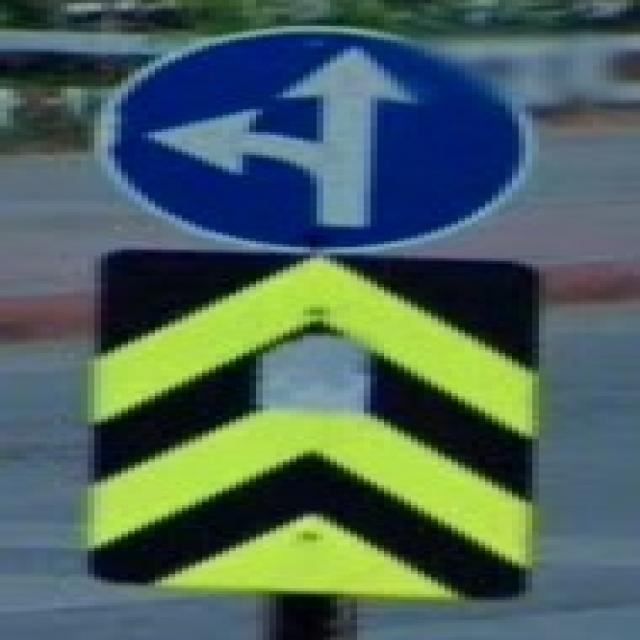Straight or Left: (96, 28, 527, 252)
